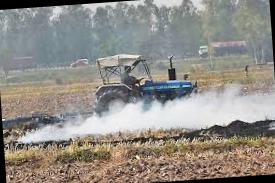Smoke: (20, 91, 275, 142)
